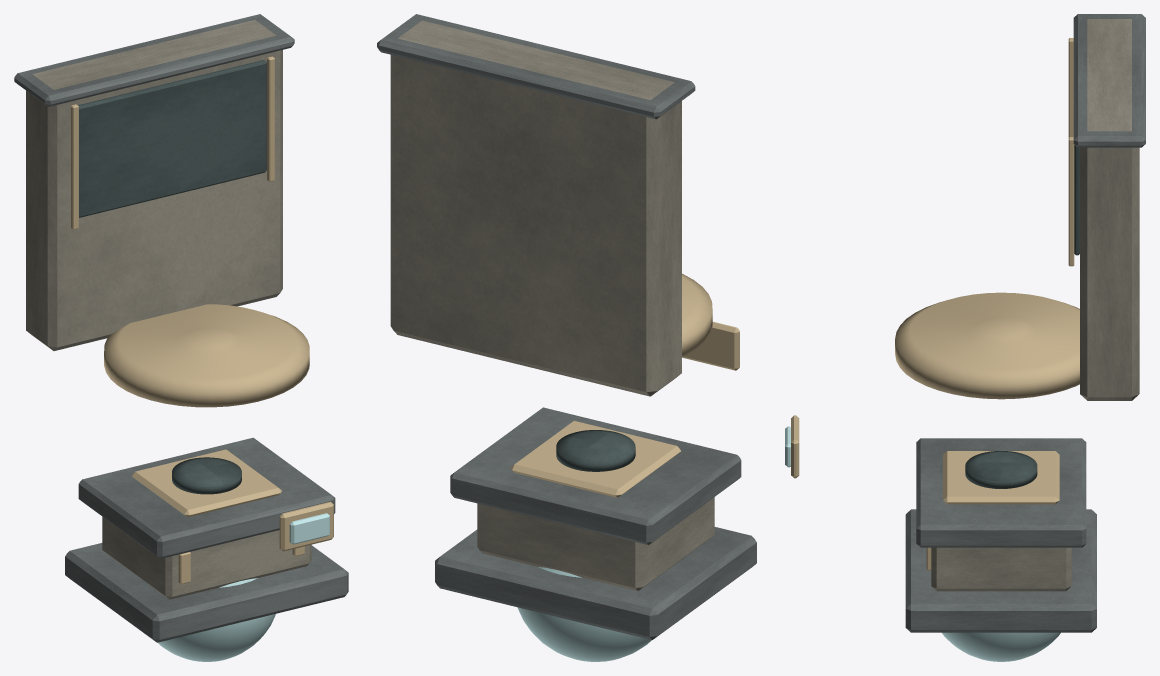
The model's file is sanctum-offerings-v01.glb.
3 renders of one model, left to right at view 1: azimuth 30°, elevation 25°; view 2: azimuth 150°, elevation 25°; view 3: azimuth 270°, elevation 25°, orthographic. The views are drawn at different scales.
Parts seen in each view (by area): view 1: Integrated tablet.001, Grounded stepped foot.001, Recessed symbol field.001, Embedded bronze upright.002, Carved plinth.001, Tablet cap.001, Bronze seating plate.001, Polished memory stone.001, Orb seat.001, State jewel.001; view 2: Integrated tablet.001, Grounded stepped foot.001, Carved plinth.001, Tablet cap.001, Bronze seating plate.001, Polished memory stone.001, Embedded bronze upright.002, Orb seat.001; view 3: Grounded stepped foot.001, Integrated tablet.001, Embedded bronze upright.002, Carved plinth.001, Tablet cap.001, Bronze seating plate.001, Polished memory stone.001, Orb seat.001, Recessed symbol field.001.
Boxes of the visible parts, <box> form: Integrated tablet.001: <box>26,20,282,350</box>; Grounded stepped foot.001: <box>65,437,348,642</box>; Recessed symbol field.001: <box>78,60,266,217</box>; Embedded bronze upright.002: <box>71,56,333,551</box>; Carved plinth.001: <box>102,517,311,599</box>; Tablet cap.001: <box>14,14,294,106</box>; Bronze seating plate.001: <box>132,449,304,584</box>; Polished memory stone.001: <box>158,578,275,661</box>; Orb seat.001: <box>172,457,241,494</box>; State jewel.001: <box>289,513,329,544</box>; Integrated tablet.001: <box>390,20,681,396</box>; Grounded stepped foot.001: <box>435,407,756,639</box>; Carved plinth.001: <box>477,497,714,590</box>; Tablet cap.001: <box>377,14,695,119</box>; Bronze seating plate.001: <box>510,421,680,497</box>; Polished memory stone.001: <box>517,567,651,661</box>; Embedded bronze upright.002: <box>682,273,739,370</box>; Orb seat.001: <box>556,430,635,471</box>; Grounded stepped foot.001: <box>905,438,1096,632</box>; Integrated tablet.001: <box>1080,19,1139,400</box>; Embedded bronze upright.002: <box>791,38,1079,478</box>; Carved plinth.001: <box>931,547,1071,591</box>; Tablet cap.001: <box>1073,14,1145,147</box>; Bronze seating plate.001: <box>926,451,1059,570</box>; Polished memory stone.001: <box>942,632,1060,661</box>; Orb seat.001: <box>965,451,1037,488</box>; Recessed symbol field.001: <box>1074,145,1079,255</box>.
Bounding box in the file's own units: 1.4 × 3.01 × 1.7.
5 materials, 3 textured.
